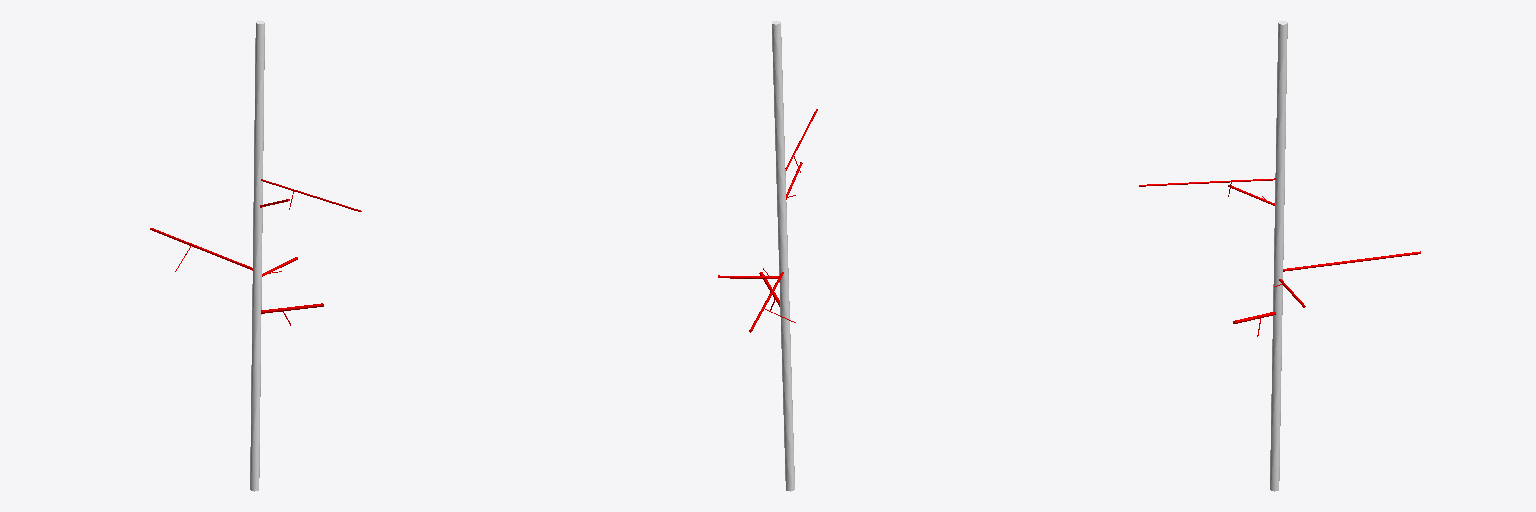
URDF robot description (tree_150.urdf):
<?xml version='1.0' encoding='UTF-8'?>
<robot name="tree_150.urdf">
  <link name="branch_0">
    <inertial>
      <origin xyz="0.0 0.0 0.0" rpy="0.0 -0.0 0.0"/>
      <mass value="0.1"/>
      <inertia ixx="0.001" ixy="0.0" ixz="0.0" iyy="0.001" iyz="0.0" izz="0.001"/>
    </inertial>
    <visual name="branch_0_visual">
      <geometry>
        <cylinder radius="0.1051619510415809" length="11.42707618817855"/>
      </geometry>
      <material name="branch_material"/>
      <origin xyz="0.12746175130028545 0.09262161866848603 5.71136518621599" rpy="-2.8066820035321738e-18 0.027580164726455747 0.6283967604505836"/>
    </visual>
    <collision name="branch_0_collision">
      <geometry>
        <cylinder radius="0.1051619510415809" length="11.42707618817855"/>
      </geometry>
      <origin xyz="0.12746175130028545 0.09262161866848603 5.71136518621599" rpy="-2.8066820035321738e-18 0.027580164726455747 0.6283967604505836"/>
    </collision>
  </link>
  <link name="branch_1">
    <inertial>
      <origin xyz="0.0 0.0 0.0" rpy="0.0 -0.0 0.0"/>
      <mass value="0.1"/>
      <inertia ixx="0.001" ixy="0.0" ixz="0.0" iyy="0.001" iyz="0.0" izz="0.001"/>
    </inertial>
    <visual name="branch_1_visual">
      <geometry>
        <cylinder radius="0.021412232472861364" length="3.2243538940268146"/>
      </geometry>
      <material name="semantic_material"/>
      <origin xyz="0.0 0.0 0.0" rpy="0.0 -0.0 0.0"/>
    </visual>
    <collision name="branch_1_collision">
      <geometry>
        <cylinder radius="0.021412232472861364" length="3.2243538940268146"/>
      </geometry>
      <origin xyz="0.0 0.0 0.0" rpy="0.0 -0.0 0.0"/>
    </collision>
  </link>
  <link name="branch_2">
    <inertial>
      <origin xyz="0.0 0.0 0.0" rpy="0.0 -0.0 0.0"/>
      <mass value="0.1"/>
      <inertia ixx="0.001" ixy="0.0" ixz="0.0" iyy="0.001" iyz="0.0" izz="0.001"/>
    </inertial>
    <visual name="branch_2_visual">
      <geometry>
        <cylinder radius="0.01" length="0.46143897601385586"/>
      </geometry>
      <material name="semantic_material"/>
      <origin xyz="0.0 0.0 0.0" rpy="0.0 -0.0 0.0"/>
    </visual>
    <collision name="branch_2_collision">
      <geometry>
        <cylinder radius="0.01" length="0.46143897601385586"/>
      </geometry>
      <origin xyz="0.0 0.0 0.0" rpy="0.0 -0.0 0.0"/>
    </collision>
  </link>
  <link name="branch_3">
    <inertial>
      <origin xyz="0.0 0.0 0.0" rpy="0.0 -0.0 0.0"/>
      <mass value="0.1"/>
      <inertia ixx="0.001" ixy="0.0" ixz="0.0" iyy="0.001" iyz="0.0" izz="0.001"/>
    </inertial>
    <visual name="branch_3_visual">
      <geometry>
        <cylinder radius="0.02717753357693203" length="1.272089182082489"/>
      </geometry>
      <material name="semantic_material"/>
      <origin xyz="0.0 0.0 0.0" rpy="0.0 -0.0 0.0"/>
    </visual>
    <collision name="branch_3_collision">
      <geometry>
        <cylinder radius="0.02717753357693203" length="1.272089182082489"/>
      </geometry>
      <origin xyz="0.0 0.0 0.0" rpy="0.0 -0.0 0.0"/>
    </collision>
  </link>
  <link name="branch_4">
    <inertial>
      <origin xyz="0.0 0.0 0.0" rpy="0.0 -0.0 0.0"/>
      <mass value="0.1"/>
      <inertia ixx="0.001" ixy="0.0" ixz="0.0" iyy="0.001" iyz="0.0" izz="0.001"/>
    </inertial>
    <visual name="branch_4_visual">
      <geometry>
        <cylinder radius="0.01" length="0.24185209551183254"/>
      </geometry>
      <material name="semantic_material"/>
      <origin xyz="0.0 0.0 0.0" rpy="0.0 -0.0 0.0"/>
    </visual>
    <collision name="branch_4_collision">
      <geometry>
        <cylinder radius="0.01" length="0.24185209551183254"/>
      </geometry>
      <origin xyz="0.0 0.0 0.0" rpy="0.0 -0.0 0.0"/>
    </collision>
  </link>
  <link name="branch_5">
    <inertial>
      <origin xyz="0.0 0.0 0.0" rpy="0.0 -0.0 0.0"/>
      <mass value="0.1"/>
      <inertia ixx="0.001" ixy="0.0" ixz="0.0" iyy="0.001" iyz="0.0" izz="0.001"/>
    </inertial>
    <visual name="branch_5_visual">
      <geometry>
        <cylinder radius="0.03873410843564326" length="1.5435928242104846"/>
      </geometry>
      <material name="semantic_material"/>
      <origin xyz="0.0 0.0 0.0" rpy="0.0 -0.0 0.0"/>
    </visual>
    <collision name="branch_5_collision">
      <geometry>
        <cylinder radius="0.03873410843564326" length="1.5435928242104846"/>
      </geometry>
      <origin xyz="0.0 0.0 0.0" rpy="0.0 -0.0 0.0"/>
    </collision>
  </link>
  <link name="branch_6">
    <inertial>
      <origin xyz="0.0 0.0 0.0" rpy="0.0 -0.0 0.0"/>
      <mass value="0.1"/>
      <inertia ixx="0.001" ixy="0.0" ixz="0.0" iyy="0.001" iyz="0.0" izz="0.001"/>
    </inertial>
    <visual name="branch_6_visual">
      <geometry>
        <cylinder radius="0.013782461040096654" length="0.45097102631525815"/>
      </geometry>
      <material name="semantic_material"/>
      <origin xyz="0.0 0.0 0.0" rpy="0.0 -0.0 0.0"/>
    </visual>
    <collision name="branch_6_collision">
      <geometry>
        <cylinder radius="0.013782461040096654" length="0.45097102631525815"/>
      </geometry>
      <origin xyz="0.0 0.0 0.0" rpy="0.0 -0.0 0.0"/>
    </collision>
  </link>
  <link name="branch_7">
    <inertial>
      <origin xyz="0.0 0.0 0.0" rpy="0.0 -0.0 0.0"/>
      <mass value="0.1"/>
      <inertia ixx="0.001" ixy="0.0" ixz="0.0" iyy="0.001" iyz="0.0" izz="0.001"/>
    </inertial>
    <visual name="branch_7_visual">
      <geometry>
        <cylinder radius="0.03139173430524353" length="1.4705401031985912"/>
      </geometry>
      <material name="semantic_material"/>
      <origin xyz="0.0 0.0 0.0" rpy="0.0 -0.0 0.0"/>
    </visual>
    <collision name="branch_7_collision">
      <geometry>
        <cylinder radius="0.03139173430524353" length="1.4705401031985912"/>
      </geometry>
      <origin xyz="0.0 0.0 0.0" rpy="0.0 -0.0 0.0"/>
    </collision>
  </link>
  <link name="branch_8">
    <inertial>
      <origin xyz="0.0 0.0 0.0" rpy="0.0 -0.0 0.0"/>
      <mass value="0.1"/>
      <inertia ixx="0.001" ixy="0.0" ixz="0.0" iyy="0.001" iyz="0.0" izz="0.001"/>
    </inertial>
    <visual name="branch_8_visual">
      <geometry>
        <cylinder radius="0.01" length="0.3786021422975288"/>
      </geometry>
      <material name="semantic_material"/>
      <origin xyz="0.0 0.0 0.0" rpy="0.0 -0.0 0.0"/>
    </visual>
    <collision name="branch_8_collision">
      <geometry>
        <cylinder radius="0.01" length="0.3786021422975288"/>
      </geometry>
      <origin xyz="0.0 0.0 0.0" rpy="0.0 -0.0 0.0"/>
    </collision>
  </link>
  <link name="branch_9">
    <inertial>
      <origin xyz="0.0 0.0 0.0" rpy="0.0 -0.0 0.0"/>
      <mass value="0.1"/>
      <inertia ixx="0.001" ixy="0.0" ixz="0.0" iyy="0.001" iyz="0.0" izz="0.001"/>
    </inertial>
    <visual name="branch_9_visual">
      <geometry>
        <cylinder radius="0.029641323585541383" length="3.2618874934466913"/>
      </geometry>
      <material name="semantic_material"/>
      <origin xyz="0.0 0.0 0.0" rpy="0.0 -0.0 0.0"/>
    </visual>
    <collision name="branch_9_collision">
      <geometry>
        <cylinder radius="0.029641323585541383" length="3.2618874934466913"/>
      </geometry>
      <origin xyz="0.0 0.0 0.0" rpy="0.0 -0.0 0.0"/>
    </collision>
  </link>
  <link name="branch_10">
    <inertial>
      <origin xyz="0.0 0.0 0.0" rpy="0.0 -0.0 0.0"/>
      <mass value="0.1"/>
      <inertia ixx="0.001" ixy="0.0" ixz="0.0" iyy="0.001" iyz="0.0" izz="0.001"/>
    </inertial>
    <visual name="branch_10_visual">
      <geometry>
        <cylinder radius="0.01" length="0.8145723586711218"/>
      </geometry>
      <material name="semantic_material"/>
      <origin xyz="0.0 0.0 0.0" rpy="0.0 -0.0 0.0"/>
    </visual>
    <collision name="branch_10_collision">
      <geometry>
        <cylinder radius="0.01" length="0.8145723586711218"/>
      </geometry>
      <origin xyz="0.0 0.0 0.0" rpy="0.0 -0.0 0.0"/>
    </collision>
  </link>
  <joint name="joint_0_1" type="fixed">
    <parent link="branch_0"/>
    <child link="branch_1"/>
    <axis xyz="1. 0. 0."/>
    <origin xyz="0.6036801598644205 -1.4246911622248657 7.713255696833299" rpy="-0.32949894442589867 1.490849219098834 -1.627742502480537"/>
  </joint>
  <joint name="joint_0_3" type="fixed">
    <parent link="branch_0"/>
    <child link="branch_3"/>
    <axis xyz="1. 0. 0."/>
    <origin xyz="0.22688118317928196 -0.4479268935008633 7.203144149439289" rpy="-0.05220048705423992 1.091861561441017 -1.500570458422906"/>
  </joint>
  <joint name="joint_0_5" type="fixed">
    <parent link="branch_0"/>
    <child link="branch_5"/>
    <axis xyz="1. 0. 0."/>
    <origin xyz="0.6813613088352867 -0.40991032136514155 4.478253677232561" rpy="-0.13459834033912094 1.3703225052945103 -0.8246577431340751"/>
  </joint>
  <joint name="joint_0_7" type="fixed">
    <parent link="branch_0"/>
    <child link="branch_7"/>
    <axis xyz="1. 0. 0."/>
    <origin xyz="0.7927073757958083 0.3686725594356723 5.144656699902564" rpy="-2.9898191696126033 1.5291678196462946 -2.5916609545468012"/>
  </joint>
  <joint name="joint_0_9" type="fixed">
    <parent link="branch_0"/>
    <child link="branch_9"/>
    <axis xyz="1. 0. 0."/>
    <origin xyz="-0.35376662254720503 1.6475099286301798 5.345071482336036" rpy="1.5613463085134764 1.5447394730224362 -2.8567670833318437"/>
  </joint>
  <joint name="joint_1_2" type="fixed">
    <parent link="branch_0"/>
    <child link="branch_2"/>
    <axis xyz="1. 0. 0."/>
    <origin xyz="0.3928662749819081 -0.9768919449693407 7.460139933594679" rpy="-2.7786968619266066 0.04374348408560159 1.8321849175235054"/>
  </joint>
  <joint name="joint_3_4" type="fixed">
    <parent link="branch_0"/>
    <child link="branch_4"/>
    <axis xyz="1. 0. 0."/>
    <origin xyz="0.09118202542453534 -0.1953886951967525 7.0603299844193925" rpy="-1.3270507658984674 0.4169803267645471 2.324943630547576"/>
  </joint>
  <joint name="joint_5_6" type="fixed">
    <parent link="branch_0"/>
    <child link="branch_6"/>
    <axis xyz="1. 0. 0."/>
    <origin xyz="0.63619424347871 -0.33093603044477726 4.2405921769451425" rpy="2.980158249133829 0.44304948227146534 2.4140970018341648"/>
  </joint>
  <joint name="joint_7_8" type="fixed">
    <parent link="branch_0"/>
    <child link="branch_8"/>
    <axis xyz="1. 0. 0."/>
    <origin xyz="0.5500814141885267 0.09783932563525688 5.197288189133126" rpy="-1.3827884995859576 -0.1647141991654676 -2.194655756795442"/>
  </joint>
  <joint name="joint_9_10" type="fixed">
    <parent link="branch_0"/>
    <child link="branch_10"/>
    <axis xyz="1. 0. 0."/>
    <origin xyz="-0.7804759997104039 1.8300106931526054 5.164891182364641" rpy="2.0314708424027637 -0.09318868262994111 -1.0906911944201387"/>
  </joint>
  <material name="branch_material">
    <color rgba="1. 1. 1. 1."/>
  </material>
  <material name="semantic_material">
    <color rgba="1. 0. 0. 1."/>
  </material>
</robot>

--- Render facts (derived) ---
3 views of the same robot in one strip: view 1: azimuth 30°, elevation 25°; view 2: azimuth 150°, elevation 25°; view 3: azimuth 270°, elevation 25° (orthographic).
Robot: tree_150.urdf — 11 links, 10 joints (10 fixed); root link branch_0; default pose: all joints at 0.
Links seen in each view (by area): view 1: branch_0; view 2: branch_0; view 3: branch_0.
Link boxes in pixels (x1,y1,x2,y2): branch_0: (250,20,264,491); branch_0: (772,20,794,491); branch_0: (1270,20,1287,491).
Bounding box of the posed robot: 2.58 × 6.2 × 11.43 m (x, y, z).
Geometry: primitives only (box / cylinder / sphere), no mesh files.
